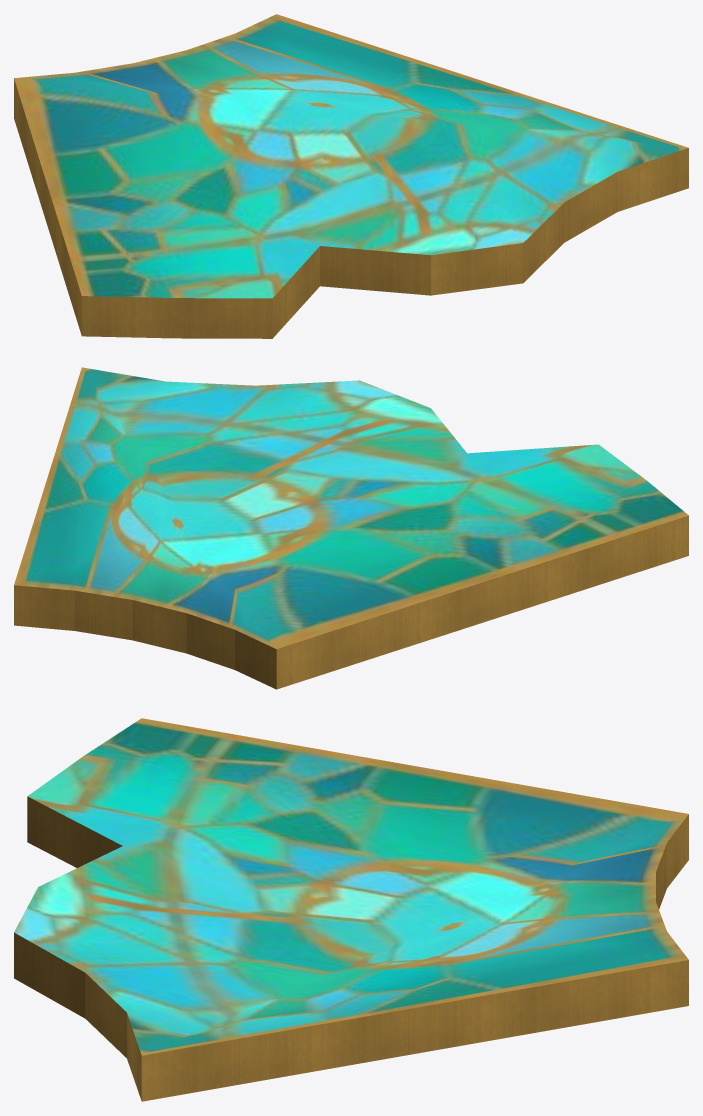
Rendered from lb_chunk_4_0.glb.
3 views of the same model, one above another, from view 1: azimuth 30°, elevation 25°; view 2: azimuth 150°, elevation 25°; view 3: azimuth 270°, elevation 25° (orthographic). The views are drawn at different scales.
Parts seen in each view (by area): view 1: lb_chunk_4_0; view 2: lb_chunk_4_0; view 3: lb_chunk_4_0.
Boxes of the visible parts, bbox=[...] form: lb_chunk_4_0: bbox=[14, 14, 688, 338]; lb_chunk_4_0: bbox=[14, 367, 688, 689]; lb_chunk_4_0: bbox=[14, 718, 688, 1101].
Bounding box in the file's own units: 5.66 × 0.36 × 4.79.
2 materials, 2 textured.
